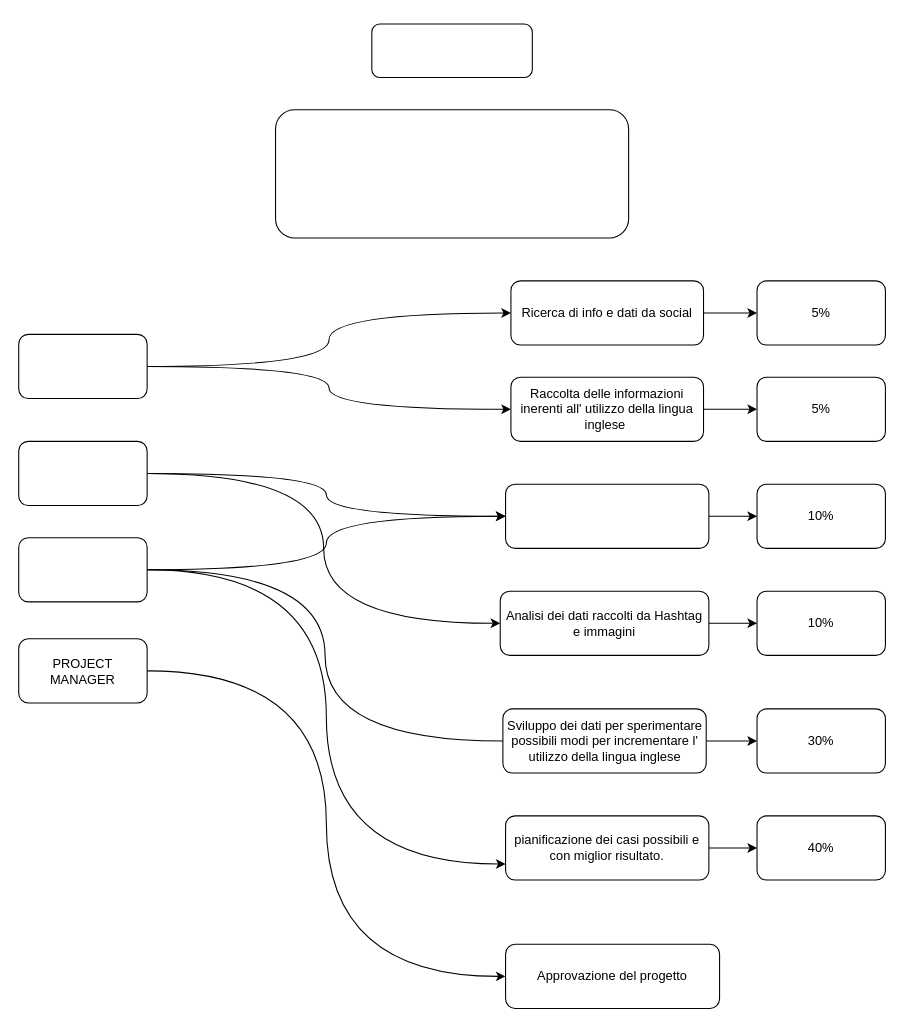
Image size: 904x1027. Some labels were removed from this diagram. The centre of each missing label's shape, as x and y in pixels:
"Analisi dei dati raccolti dalla tipologia dei post" goes at [607,515].
"Analisi dei social per incrementare l' utilizzo della lingua inglese." goes at [451,173].
"DATA ANALYST" goes at [82,473].
"DATA ENGINEER" goes at [82,366].
"DATA SCIENTIST" goes at [82,569].
"OBIETTIVO:" goes at [451,50].
